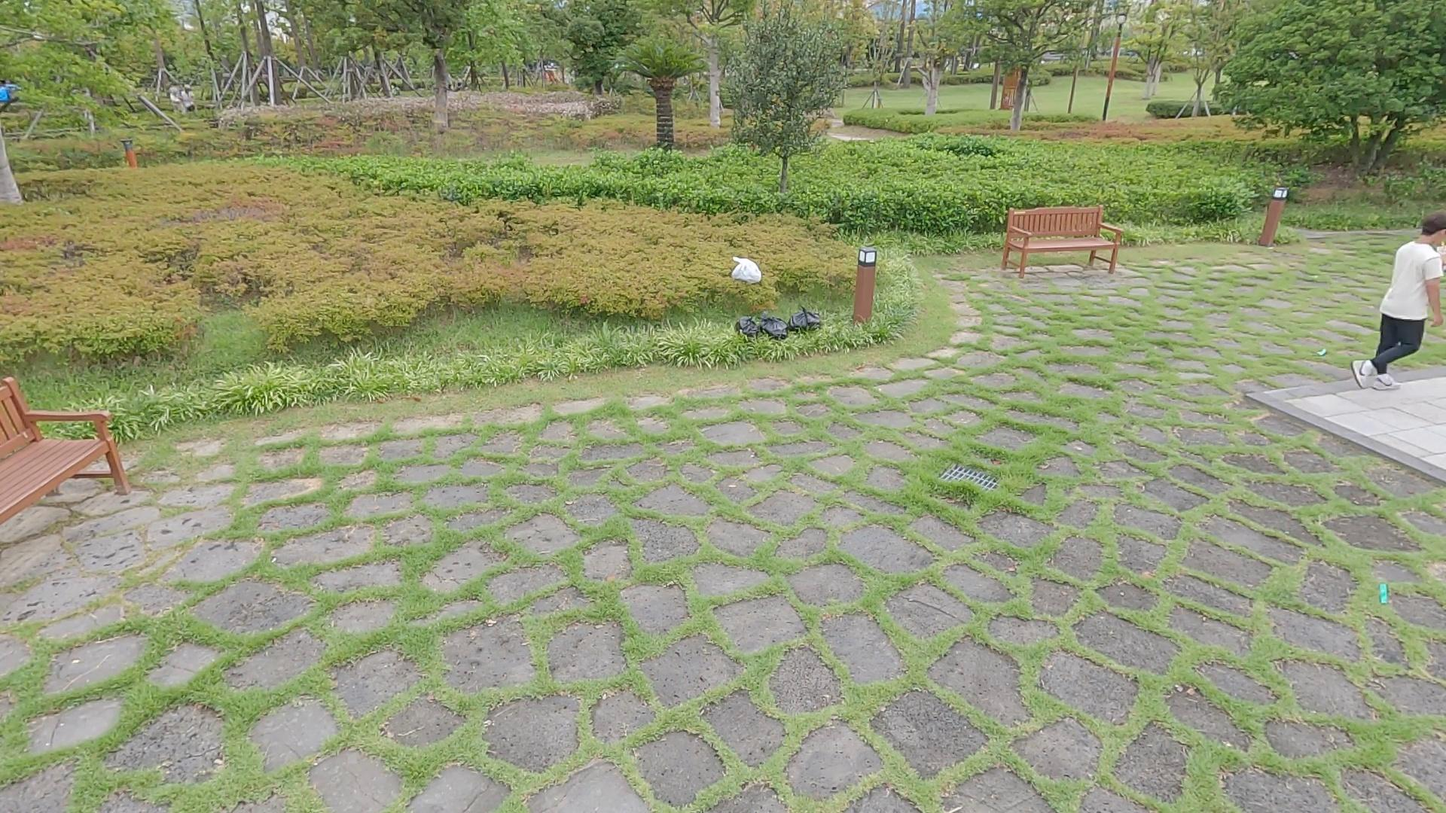person: (1346, 210, 1446, 393)
trash: (730, 255, 763, 287), (789, 307, 822, 336), (757, 313, 788, 339), (732, 315, 760, 334)
